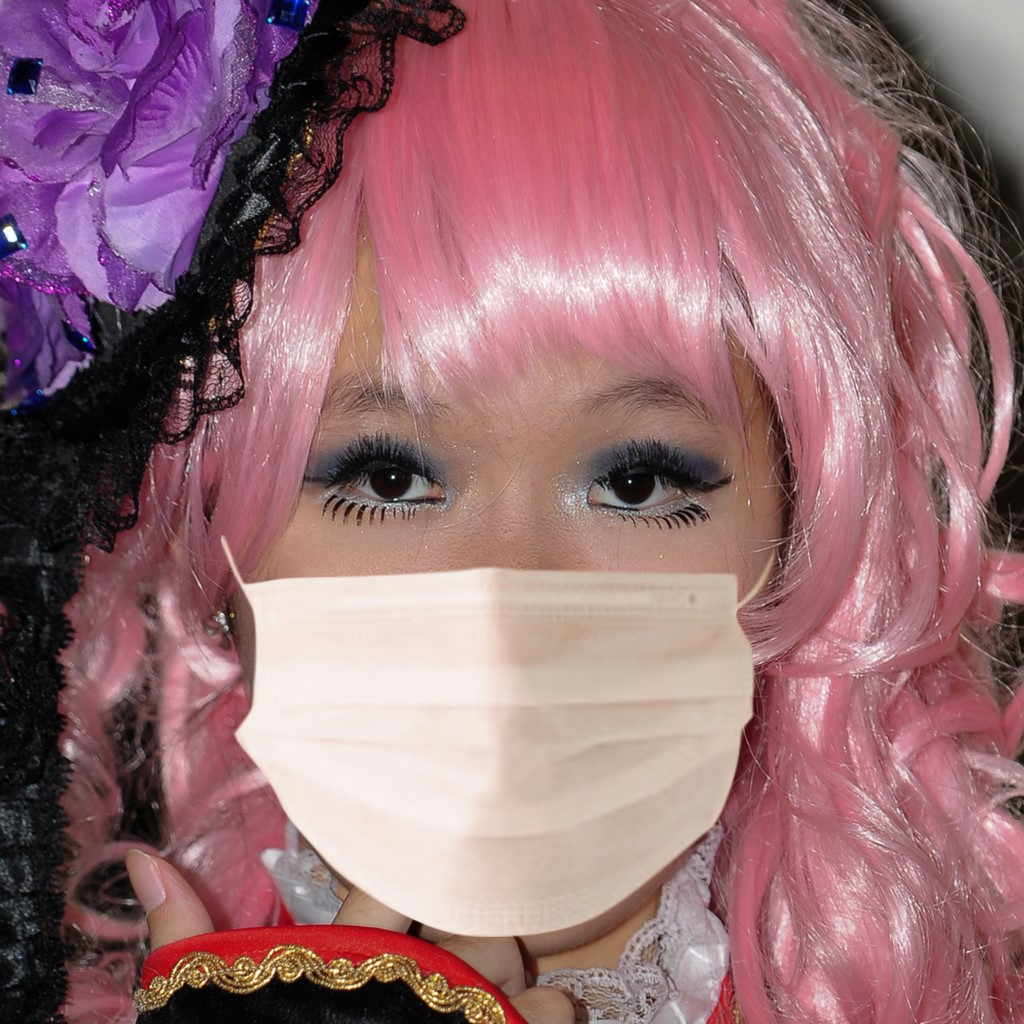con_mascara: (179, 172, 813, 955)
